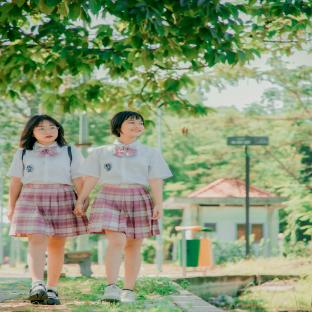Human: (7, 111, 172, 304)
